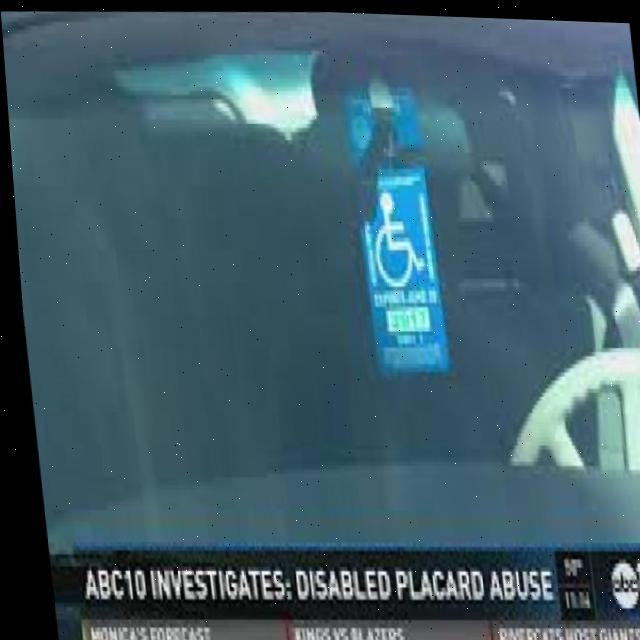symbol_of_access: (364, 181, 430, 301)
